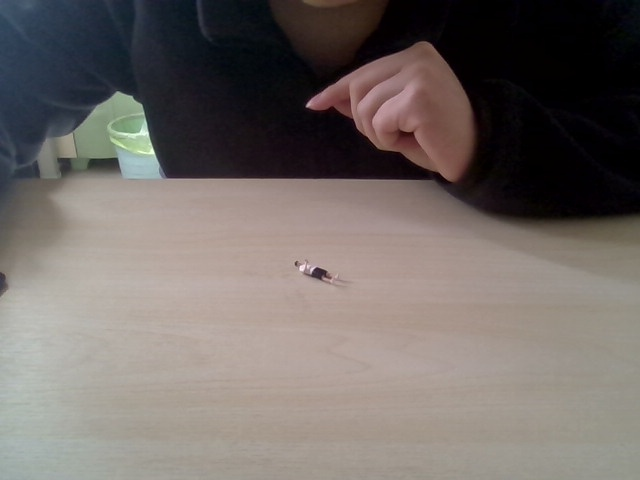fall: (291, 255, 345, 291)
